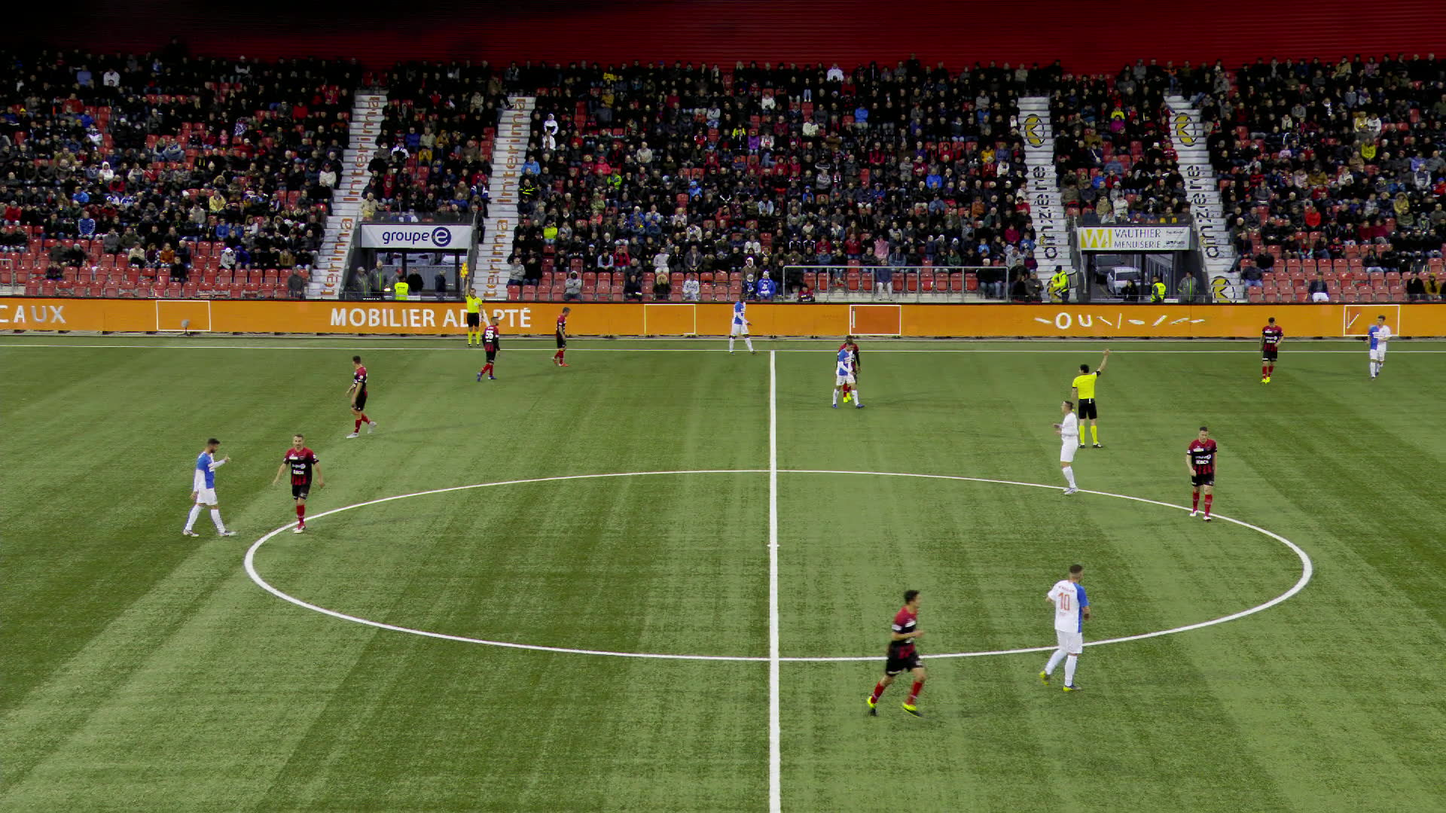player: (859, 589, 927, 720), (1036, 565, 1090, 690), (182, 436, 236, 536), (275, 434, 324, 532), (1185, 426, 1218, 521), (1052, 400, 1079, 492), (346, 356, 374, 439), (830, 340, 862, 408), (1258, 317, 1284, 384), (727, 294, 753, 355), (477, 315, 500, 380), (837, 336, 859, 402), (1368, 314, 1390, 379), (551, 307, 569, 365)
referee: (1069, 349, 1109, 449), (464, 276, 482, 348)
